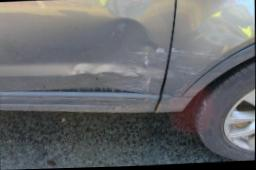Door: (52, 45, 173, 118)
Fender: (164, 0, 256, 111)
